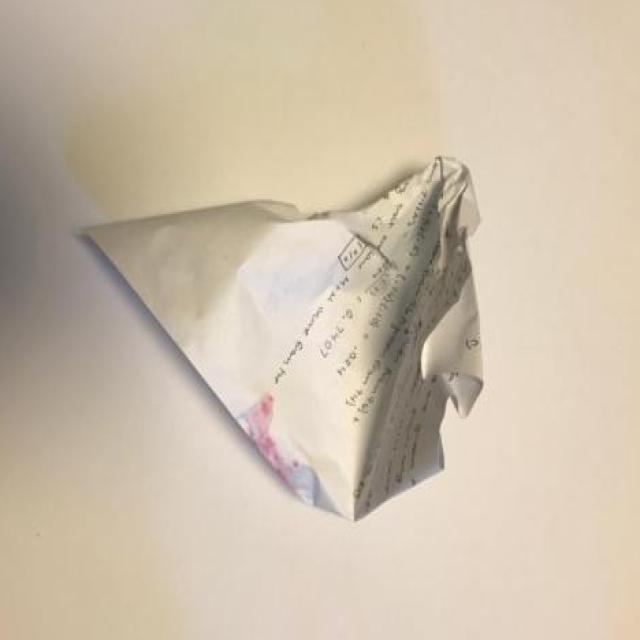kertas: (73, 156, 485, 525)
